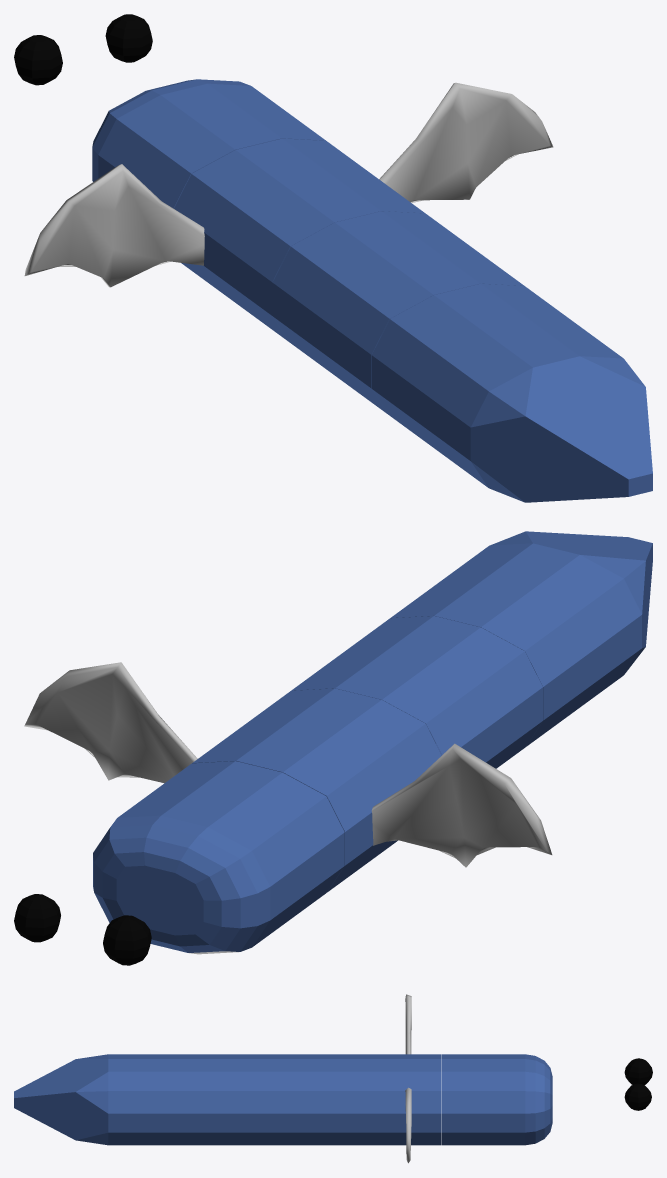
File: dragon.fbx
3 renders of one model, top to bottom at view 1: azimuth 30°, elevation 25°; view 2: azimuth 150°, elevation 25°; view 3: azimuth 270°, elevation 25°, orthographic. The views are drawn at different scales.
Parts seen in each view (by area): view 1: Cube, Cube.001, Cube.002, Cube.003, polySurface1, polySurface2, Sphere.005, Sphere.004; view 2: Cube.003, Cube, Cube.001, Cube.002, polySurface1, polySurface2, Sphere.005, Sphere.004; view 3: Cube, Cube.001, Cube.002, Cube.003, Sphere.005, Sphere.004, polySurface2, polySurface1.
Boxes of the visible parts, x1,y1,x2,y2 form: Cube: (371,283,652,502); Cube.001: (272,211,524,415); Cube.002: (174,138,424,342); Cube.003: (92,79,325,269); polySurface1: (24,164,204,287); polySurface2: (379,82,553,202); Sphere.005: (14,35,62,85); Sphere.004: (105,14,152,62); Cube.003: (93,761,344,954); Cube: (390,531,652,747); Cube.001: (291,616,542,768); Cube.002: (192,688,441,892); polySurface1: (371,743,552,867); polySurface2: (24,662,197,783); Sphere.005: (103,915,151,965); Sphere.004: (14,894,60,942); Cube: (14,1054,219,1145); Cube.001: (219,1054,330,1145); Cube.002: (330,1054,441,1145); Cube.003: (441,1054,552,1145); Sphere.005: (624,1058,652,1084); Sphere.004: (624,1083,651,1110); polySurface2: (405,1087,411,1163); polySurface1: (405,994,411,1054).
Size of what is drawn, in the model's own units: 617 by 184 by 1153.
